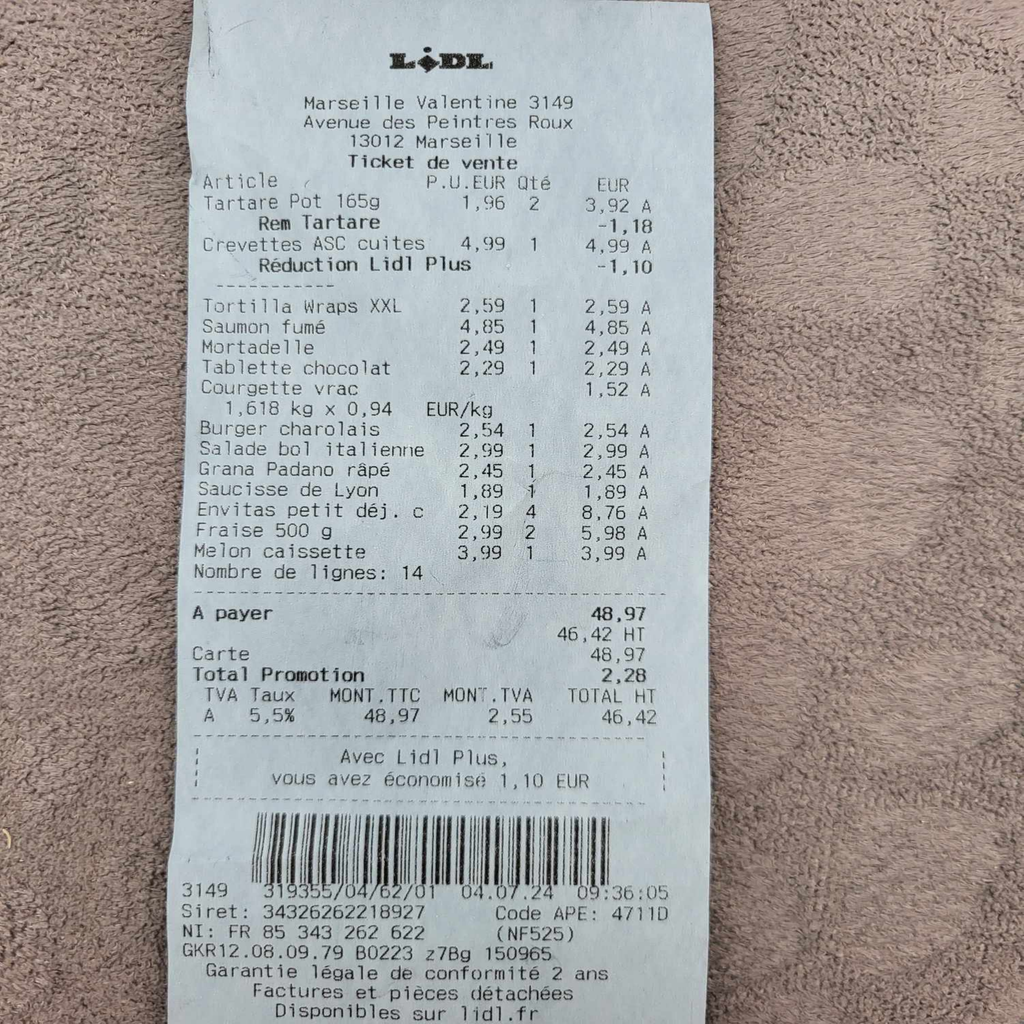recipt: (166, 0, 719, 1024)
